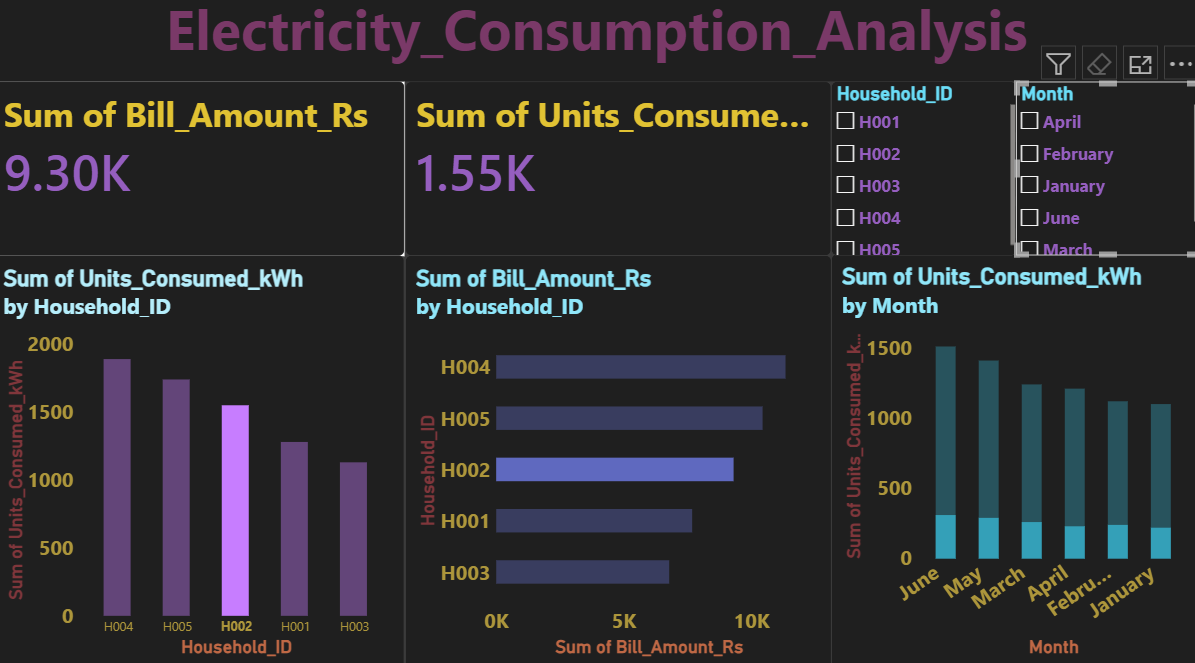

The dashboard page shown, as its layout file describes it:
{"tool":"powerbi","page":{"name":"Page 1","canvas":[1920,1080],"ordinal":0},"visuals":[{"type":"cardVisual","fields":{"Data":["Sum(Sheet1.Bill_Amount_Rs)"]},"box":[0,145.5,654.8,277.8],"z":0},{"type":"cardVisual","fields":{"Data":["Sum(Sheet1.Units_Consumed_kWh)"]},"box":[656.1,145.5,677.5,277.8],"z":1000},{"type":"clusteredBarChart","fields":{"Category":["Sheet1.Household_ID"],"Y":["Sum(Sheet1.Bill_Amount_Rs)"]},"box":[656.1,422.3,677.6,656.1],"z":2000},{"type":"columnChart","fields":{"Category":["Sheet1.Month"],"Y":["Sum(Sheet1.Units_Consumed_kWh)"]},"box":[1333.7,419.9,586.9,658.5],"z":3000},{"type":"columnChart","fields":{"Category":["Sheet1.Household_ID"],"Y":["Sum(Sheet1.Units_Consumed_kWh)"]},"box":[0,422.3,653.7,656.1],"z":4000},{"type":"slicer","fields":{"Values":["Sheet1.Household_ID"]},"box":[1333.7,145.5,293.5,276.8],"z":5000},{"type":"slicer","fields":{"Values":["Sheet1.Month"]},"box":[1627.2,145.5,293.5,276.8],"z":6000},{"type":"textbox","box":[0,0,1920.7,145.5],"z":7000}]}

Visuals, with their boxes in screenshot pixels (x1, y1, x2, y2), scaled from the page's 1920x1080 canvas onto the 1195x663 screenshot:
cardVisual - Sum(Sheet1.Bill_Amount_Rs): rect(0, 89, 408, 260)
cardVisual - Sum(Sheet1.Units_Consumed_kWh): rect(408, 89, 830, 260)
clusteredBarChart - Sheet1.Household_ID x Sum(Sheet1.Bill_Amount_Rs): rect(408, 259, 830, 662)
columnChart - Sheet1.Month x Sum(Sheet1.Units_Consumed_kWh): rect(830, 258, 1194, 662)
columnChart - Sheet1.Household_ID x Sum(Sheet1.Units_Consumed_kWh): rect(0, 259, 407, 662)
slicer - Sheet1.Household_ID: rect(830, 89, 1013, 259)
slicer - Sheet1.Month: rect(1013, 89, 1194, 259)
textbox: rect(0, 0, 1194, 89)
